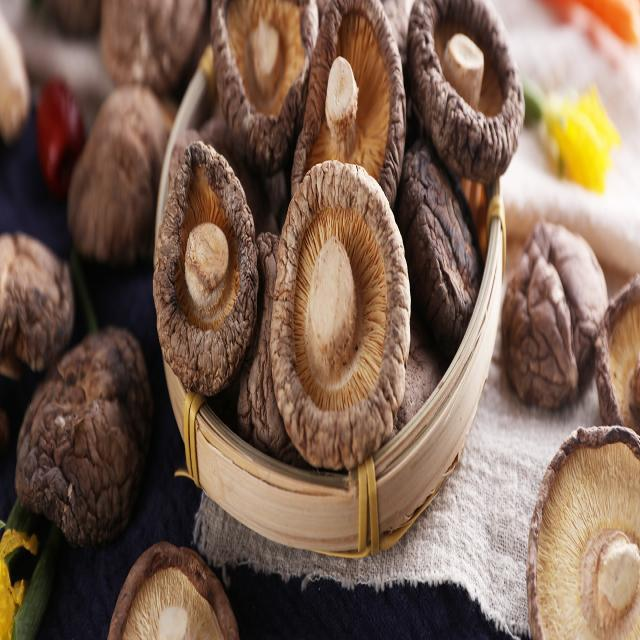Lentinus edodes: (270, 160, 412, 469), (15, 328, 153, 547), (155, 136, 259, 391), (527, 422, 639, 640), (295, 3, 407, 212), (499, 220, 608, 413), (410, 0, 526, 178), (210, 0, 316, 170)
